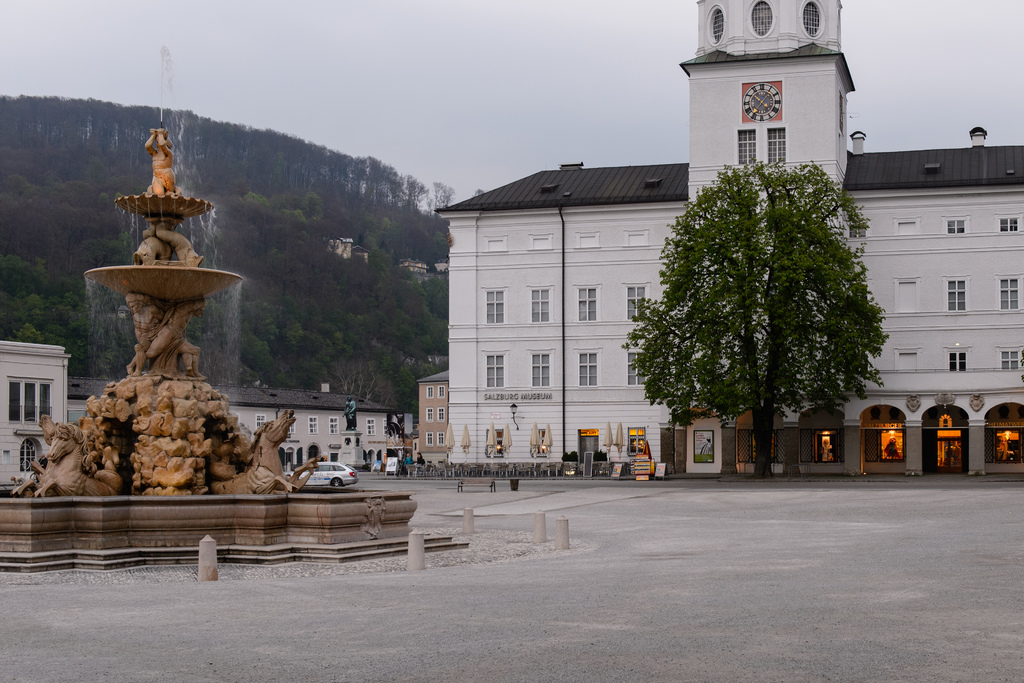Tree: (0, 94, 490, 390), (645, 131, 905, 474)
